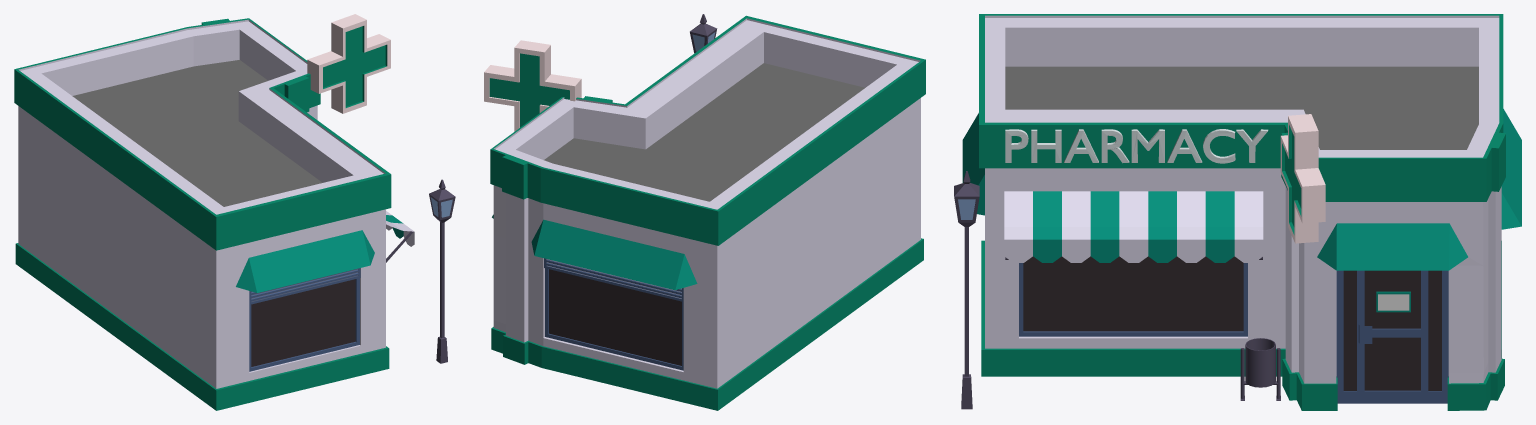
The model's file is pharmacy.glb.
3 renders of one model, left to right at view 1: azimuth 30°, elevation 25°; view 2: azimuth 150°, elevation 25°; view 3: azimuth 270°, elevation 25°, orthographic. The views are drawn at different scales.
Visible parts, largest first — view 1: PublicBuilding_Pharmacy, PublicBuilding_Light; view 2: PublicBuilding_Pharmacy, PublicBuilding_Light; view 3: PublicBuilding_Pharmacy, PublicBuilding_Light, PublicBuilding_Bin.
Part boxes in pixels (<box>): PublicBuilding_Pharmacy: <box>14,14,414,410</box>; PublicBuilding_Light: <box>429,179,455,363</box>; PublicBuilding_Pharmacy: <box>484,15,925,410</box>; PublicBuilding_Light: <box>690,14,717,53</box>; PublicBuilding_Pharmacy: <box>962,14,1521,410</box>; PublicBuilding_Light: <box>954,171,979,409</box>; PublicBuilding_Bin: <box>1240,338,1280,400</box>.
Size of what is drawn, in the model's own units: 3.53 by 2.67 by 4.47.
Materials: 1 (1 with a texture image).
